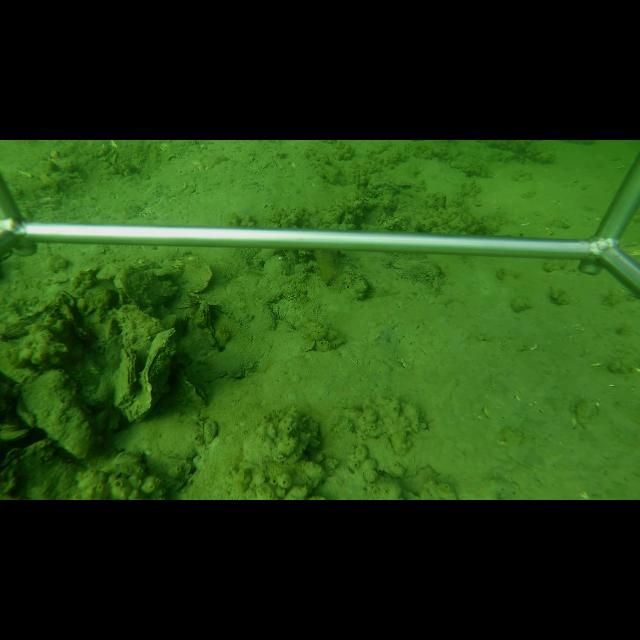Oyster-Closed: (18, 370, 98, 464), (118, 326, 175, 423), (112, 346, 136, 407), (196, 300, 221, 350), (184, 259, 216, 294), (0, 426, 34, 441)
Oyster-Open: (181, 371, 207, 407)
